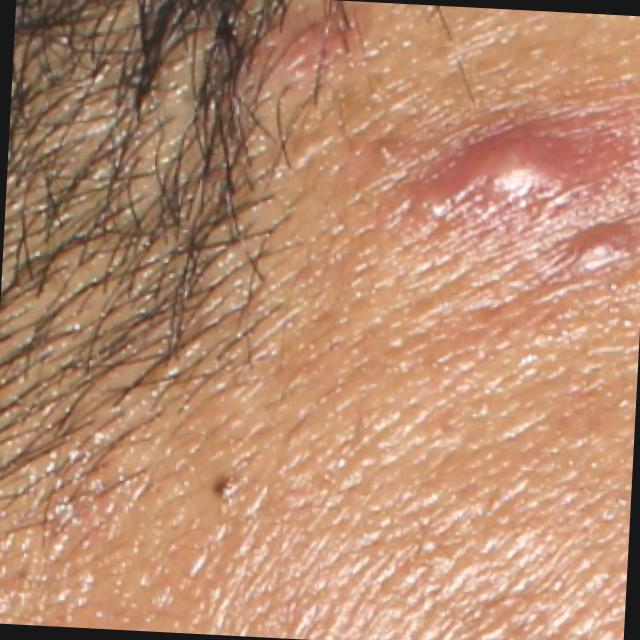nodule: (461, 124, 567, 204)
